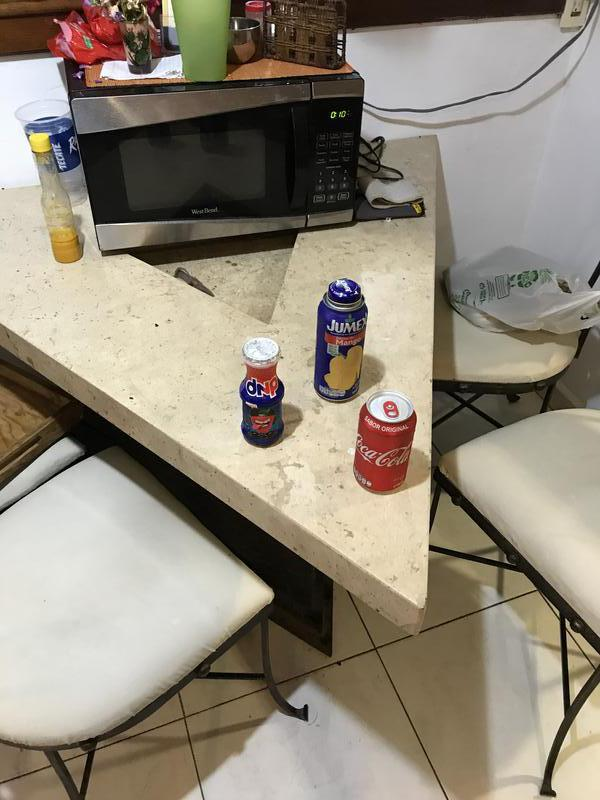coca_cola: (352, 393, 415, 493)
danup: (239, 339, 287, 447)
jugo_jumex: (317, 279, 366, 402)
